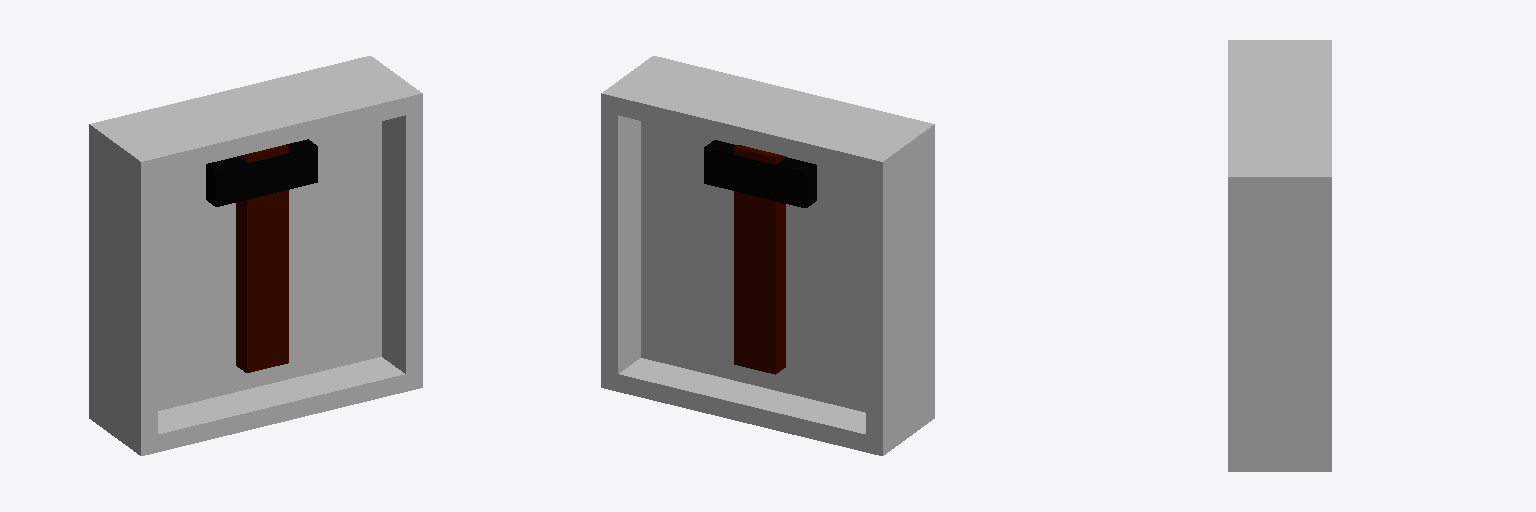
The model's file is repair.obj.
3 views of the same model, side by side, from view 1: azimuth 30°, elevation 25°; view 2: azimuth 150°, elevation 25°; view 3: azimuth 270°, elevation 25° (orthographic).
Parts seen in each view (by area): view 1: Cube; view 2: Cube; view 3: Cube.
Part boxes in pixels (x1,y1,x2,y2): Cube: (89,56,422,455); Cube: (601,56,934,455); Cube: (1228,40,1331,471).
Size of the model in its own units: 2 by 2 by 0.638.